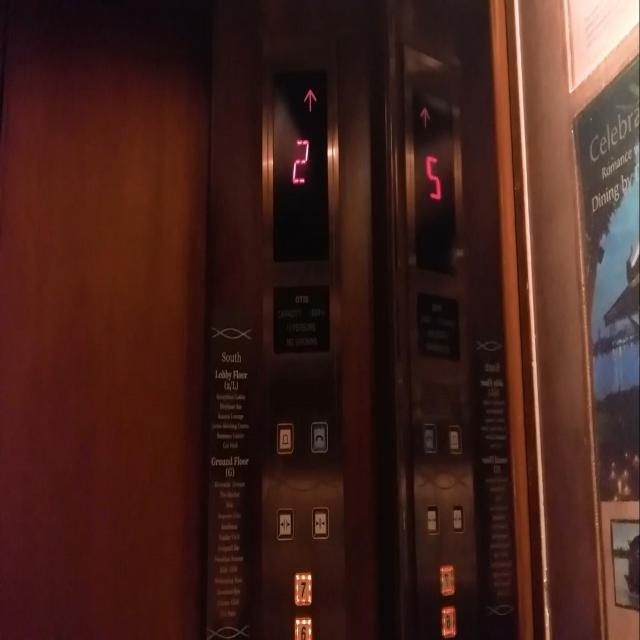6: (292, 613, 314, 639)
7: (292, 568, 313, 610)
alarm: (274, 419, 295, 456), (446, 421, 463, 457)
call: (310, 419, 330, 456), (421, 420, 436, 456)
close: (310, 502, 330, 541), (424, 502, 440, 538)
led: (269, 61, 331, 267), (410, 88, 458, 278)
open: (274, 504, 295, 543), (451, 502, 465, 534)
unknown: (437, 561, 456, 597), (439, 603, 457, 639)
